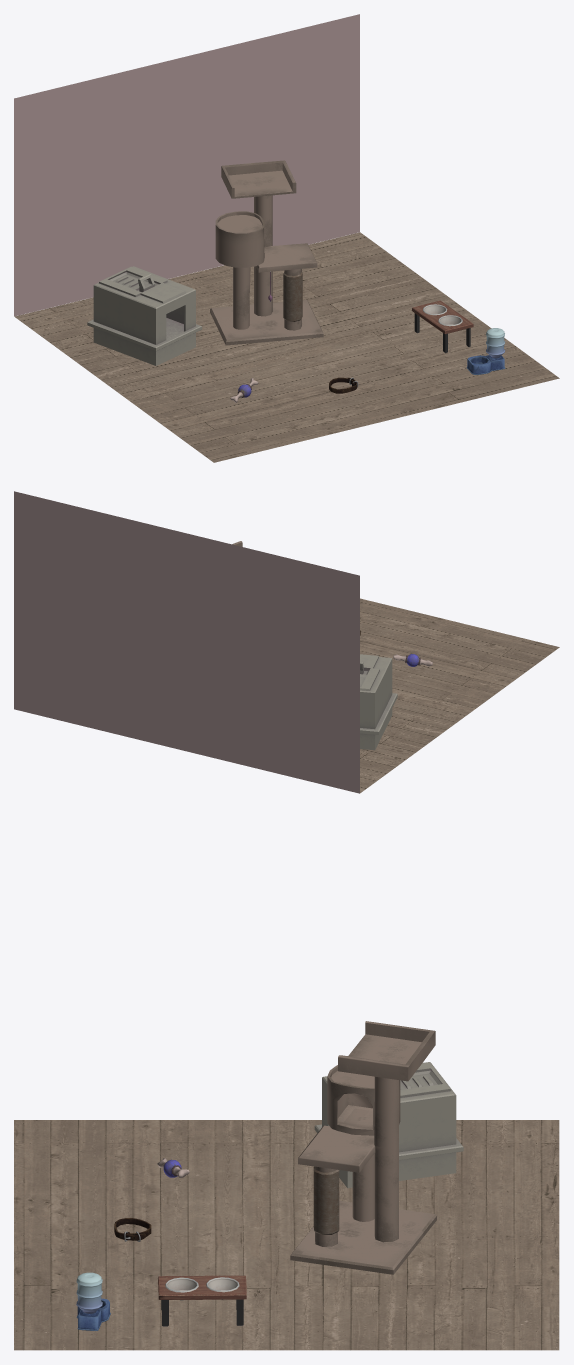
Rendered from pet_aksesuar.glb.
3 views of the same model, one above another, from view 1: azimuth 30°, elevation 25°; view 2: azimuth 150°, elevation 25°; view 3: azimuth 270°, elevation 25° (orthographic). The views are drawn at different scales.
Parts seen in each view (by area): view 1: pPlane2, pPlane1, cat_tree, pCube3, bowl_food, bowl_water; view 2: pPlane2, pPlane1, pCube3; view 3: pPlane1, cat_tree, pCube3, bowl_food, bowl_water.
Boxes of the visible parts, x1,y1,x2,y2 form: pPlane2: [14, 14, 359, 316]; pPlane1: [14, 232, 559, 462]; cat_tree: [210, 160, 323, 345]; pCube3: [87, 266, 202, 365]; bowl_food: [412, 300, 473, 353]; bowl_water: [466, 328, 505, 374]; pPlane2: [14, 491, 359, 793]; pPlane1: [360, 598, 559, 793]; pCube3: [360, 654, 397, 750]; pPlane1: [14, 1120, 559, 1350]; cat_tree: [290, 1021, 436, 1274]; pCube3: [314, 1062, 463, 1188]; bowl_food: [158, 1275, 246, 1326]; bowl_water: [76, 1272, 110, 1330].
Bounding box in the file's own units: 0.2 × 0.1205 × 0.2002.
Materials: 8 (7 with a texture image).
